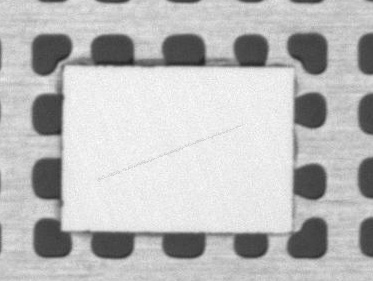DIE_CRACK: (129, 93, 324, 136)
